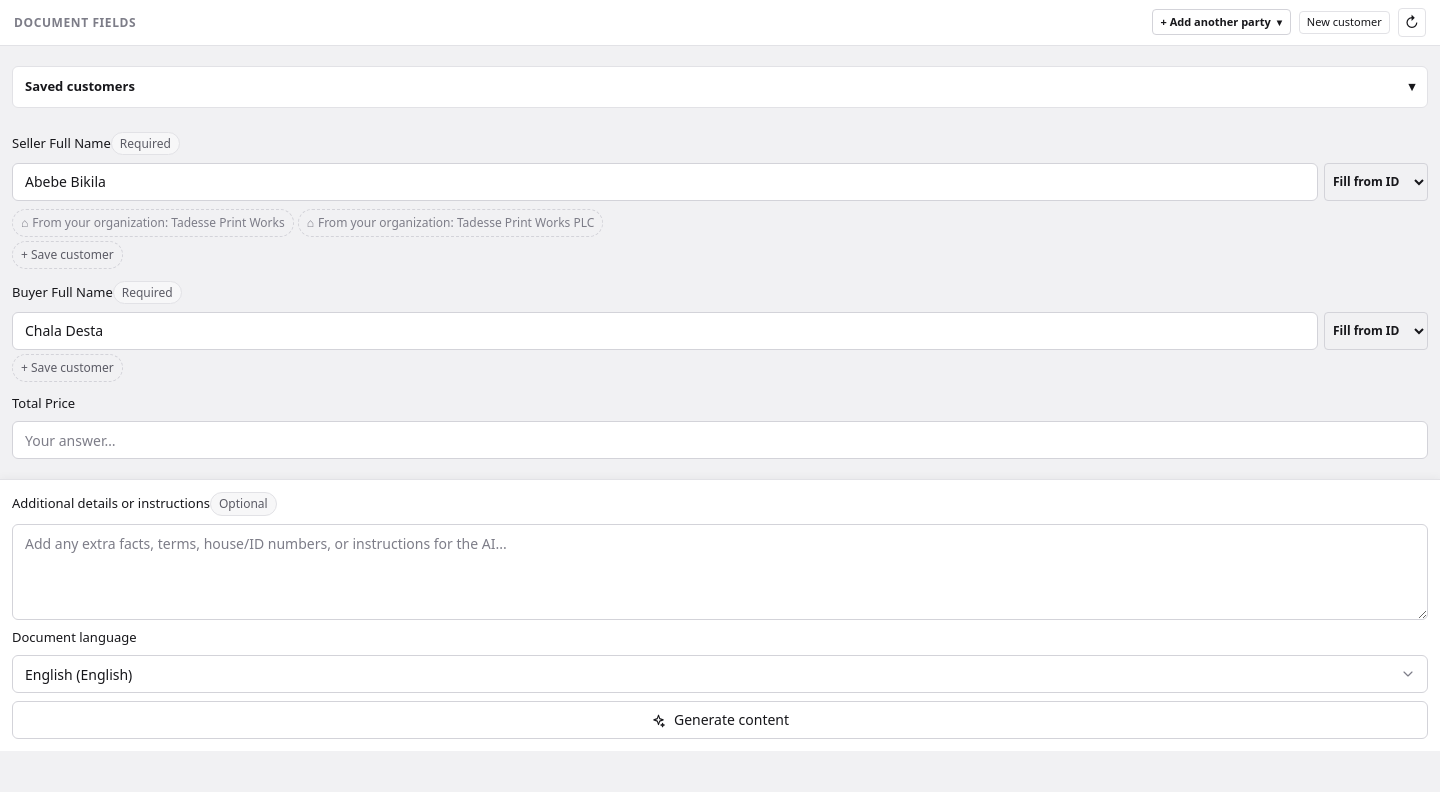
Test: Inline Telegram ID Mapping & Repeatable Co-Party Slots › toggles role dropdown menu on header add party button when multiple party roles exist
// Click header add button to open dropdown
Click the button with test id "header-add-party-btn": [1221, 22] box [1152,9,1291,35]
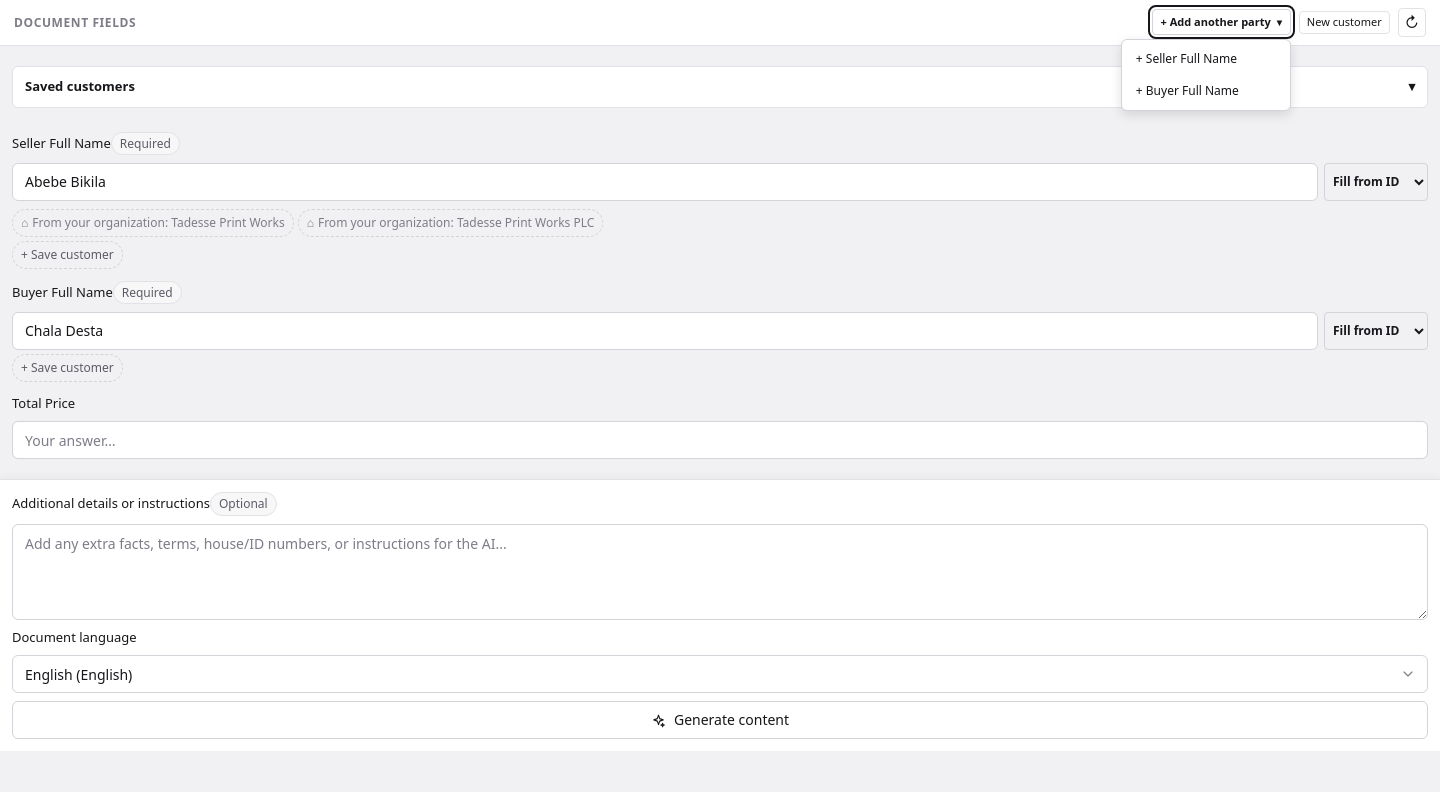
Check: the menu with test id "header-add-party-menu" is shown, box [1121,39,1291,111]
Check: the menu item with test id "add-co-party-btn-seller_name" shows "Seller Full Name"
Click the menu item with test id "add-co-party-btn-seller_name": [1206, 59] box [1126,44,1286,74]
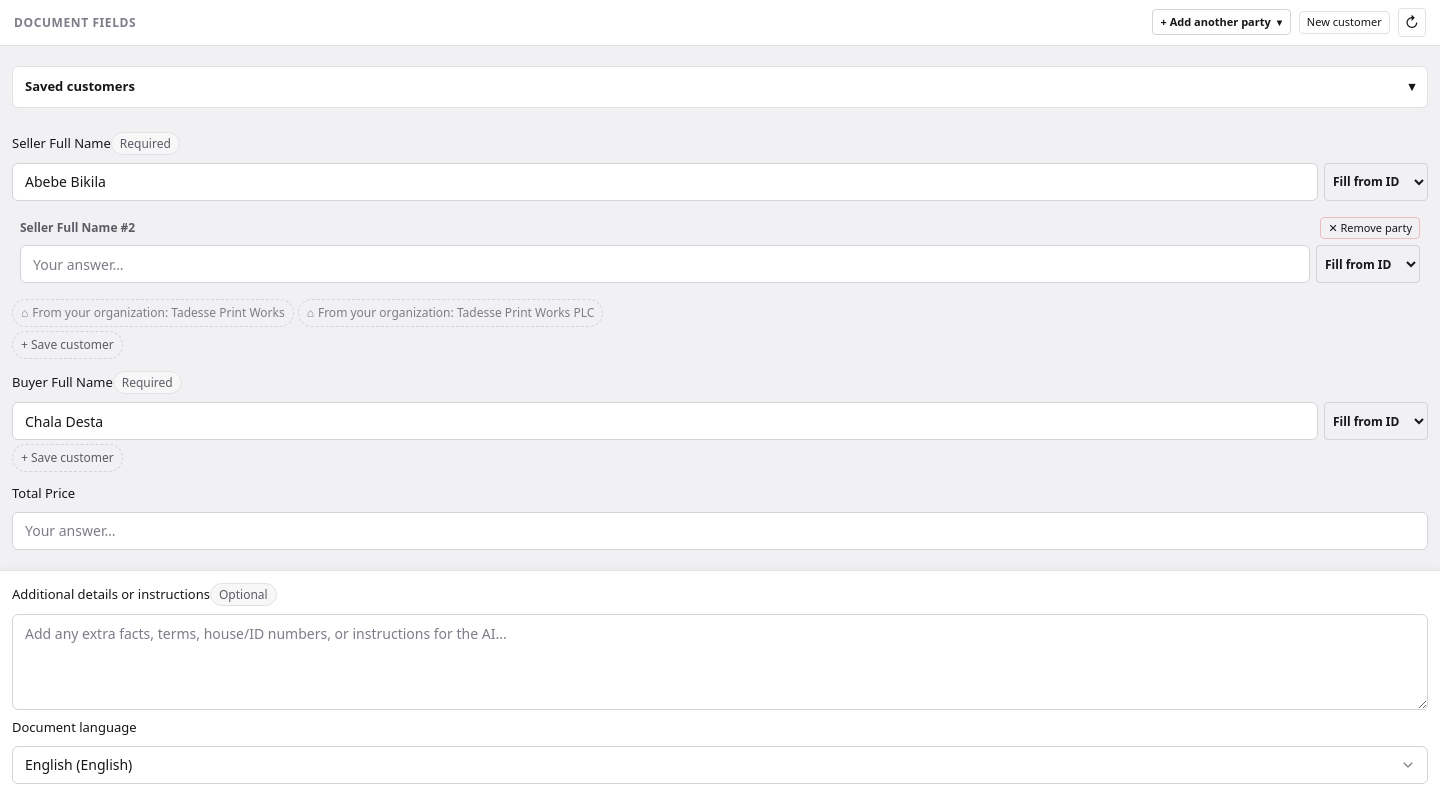
Check: the text "Seller Full Name #2" is shown, box [20,219,135,237]
Check: the field with test id "co-party-input-seller_name-1" is shown, box [20,245,1310,283]
Check: the menu with test id "header-add-party-menu" is gone
